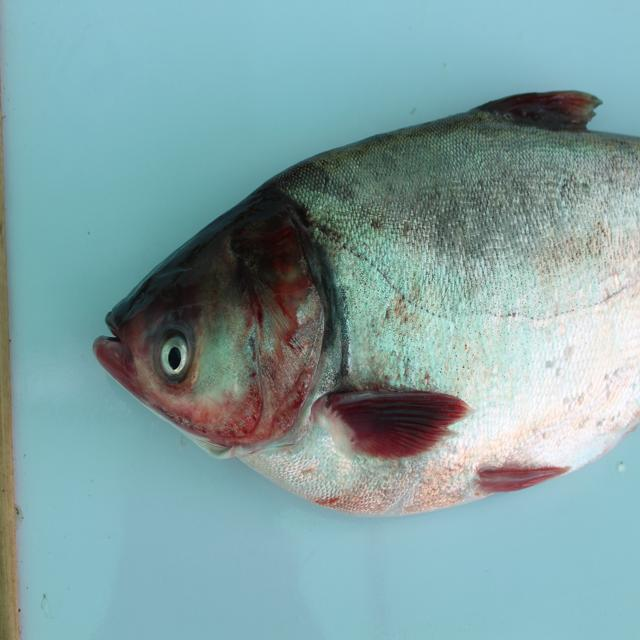SilverCarp: (82, 126, 640, 509)
